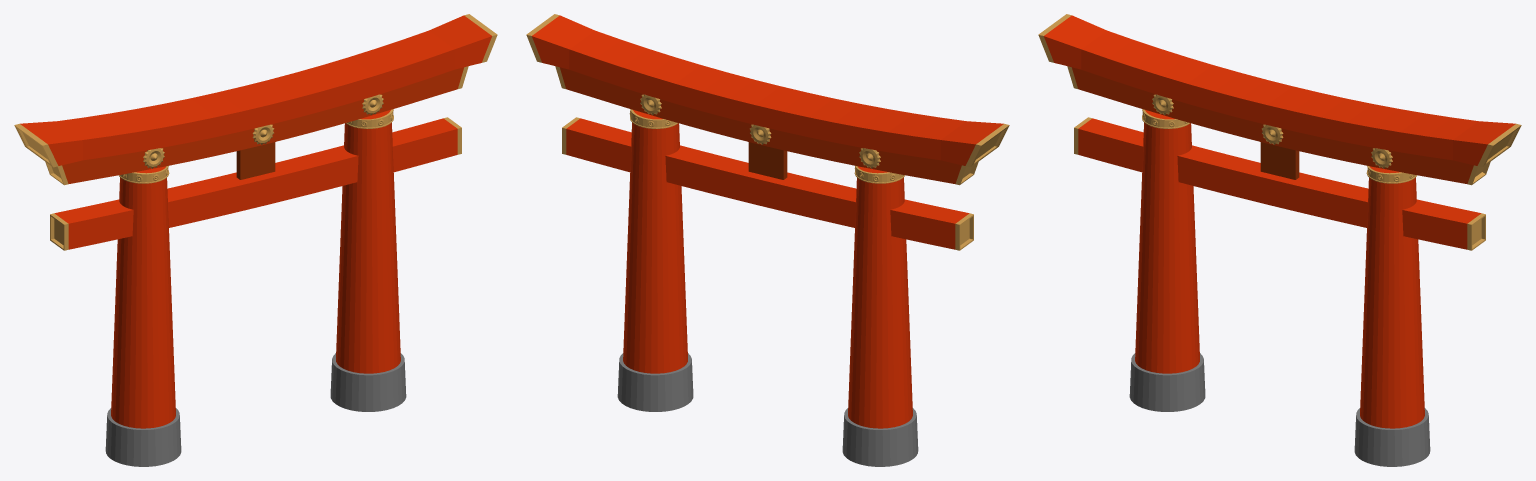
File: torii1003.fbx
3 renders of one model, left to right at view 1: azimuth 30°, elevation 25°; view 2: azimuth 150°, elevation 25°; view 3: azimuth 330°, elevation 25°, orthographic.
Parts seen in each view (by area): view 1: cube.002; view 2: cube.002; view 3: cube.002.
Boxes of the visible parts, left/top/right/bottom form: cube.002: left=14, top=14, right=497, bottom=466; cube.002: left=526, top=14, right=1009, bottom=466; cube.002: left=1038, top=14, right=1521, bottom=466.
Size of the model in its own units: 3660 by 2640 by 529.
